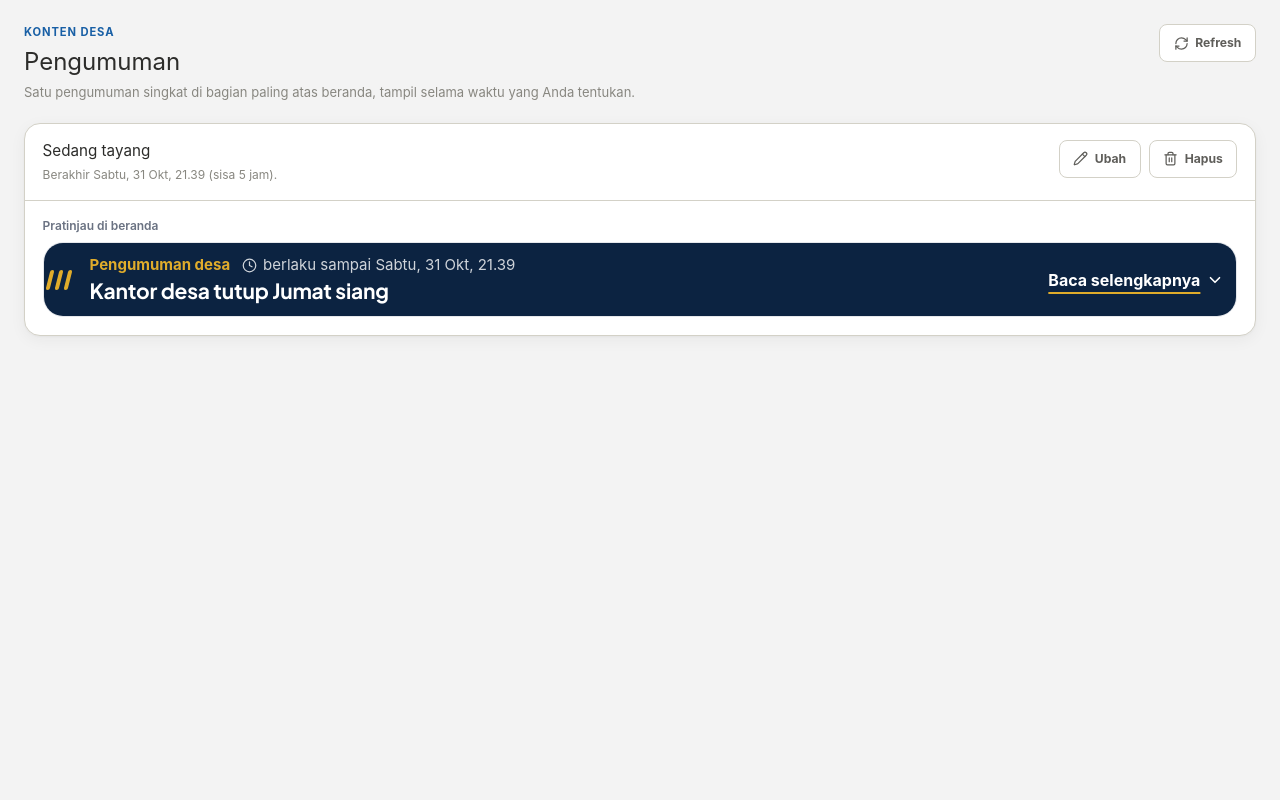
Test: KelolaPengumumanPage › preselects the linked news item when editing
Click the button "Ubah".
click(1100, 159)  # box [1059, 140, 1141, 178]
(page scrolled)
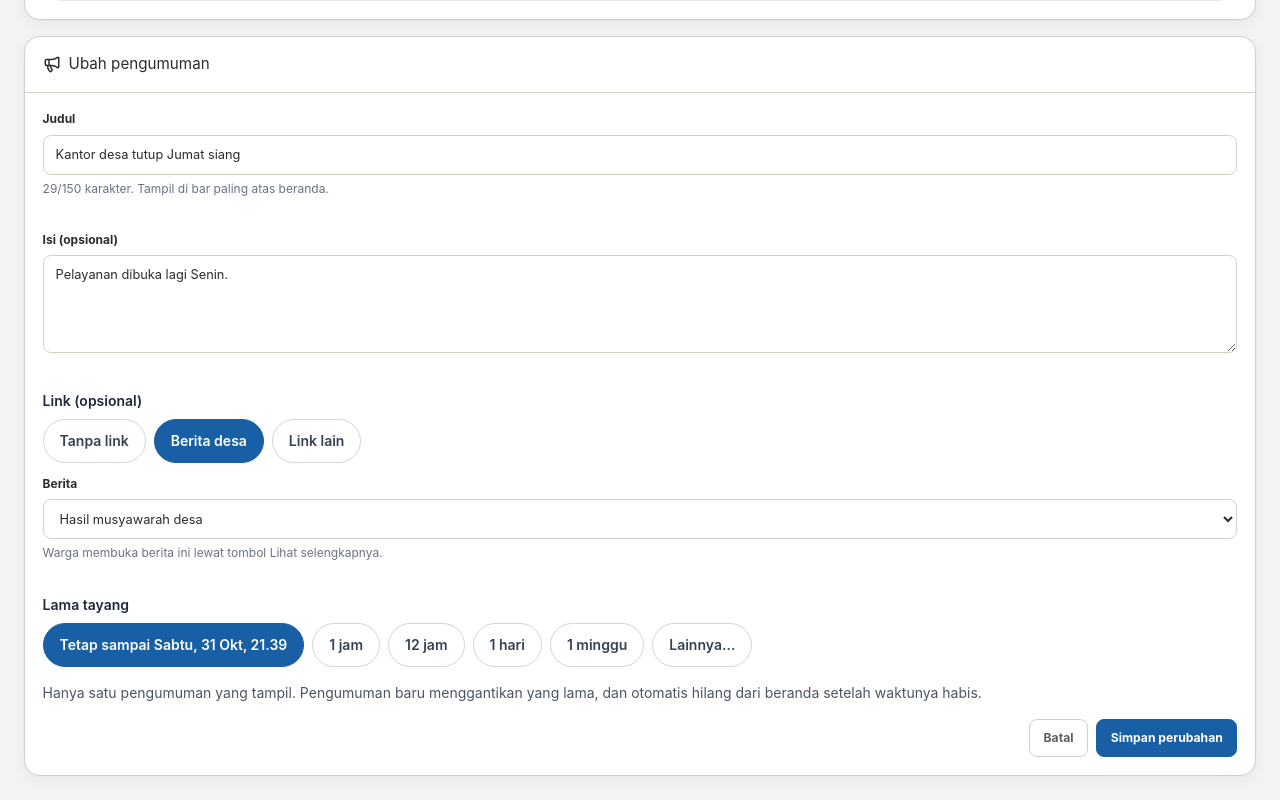
Check: the dropdown labelled "Berita" shows "Hasil musyawarah desa", box [43, 499, 1237, 539]
